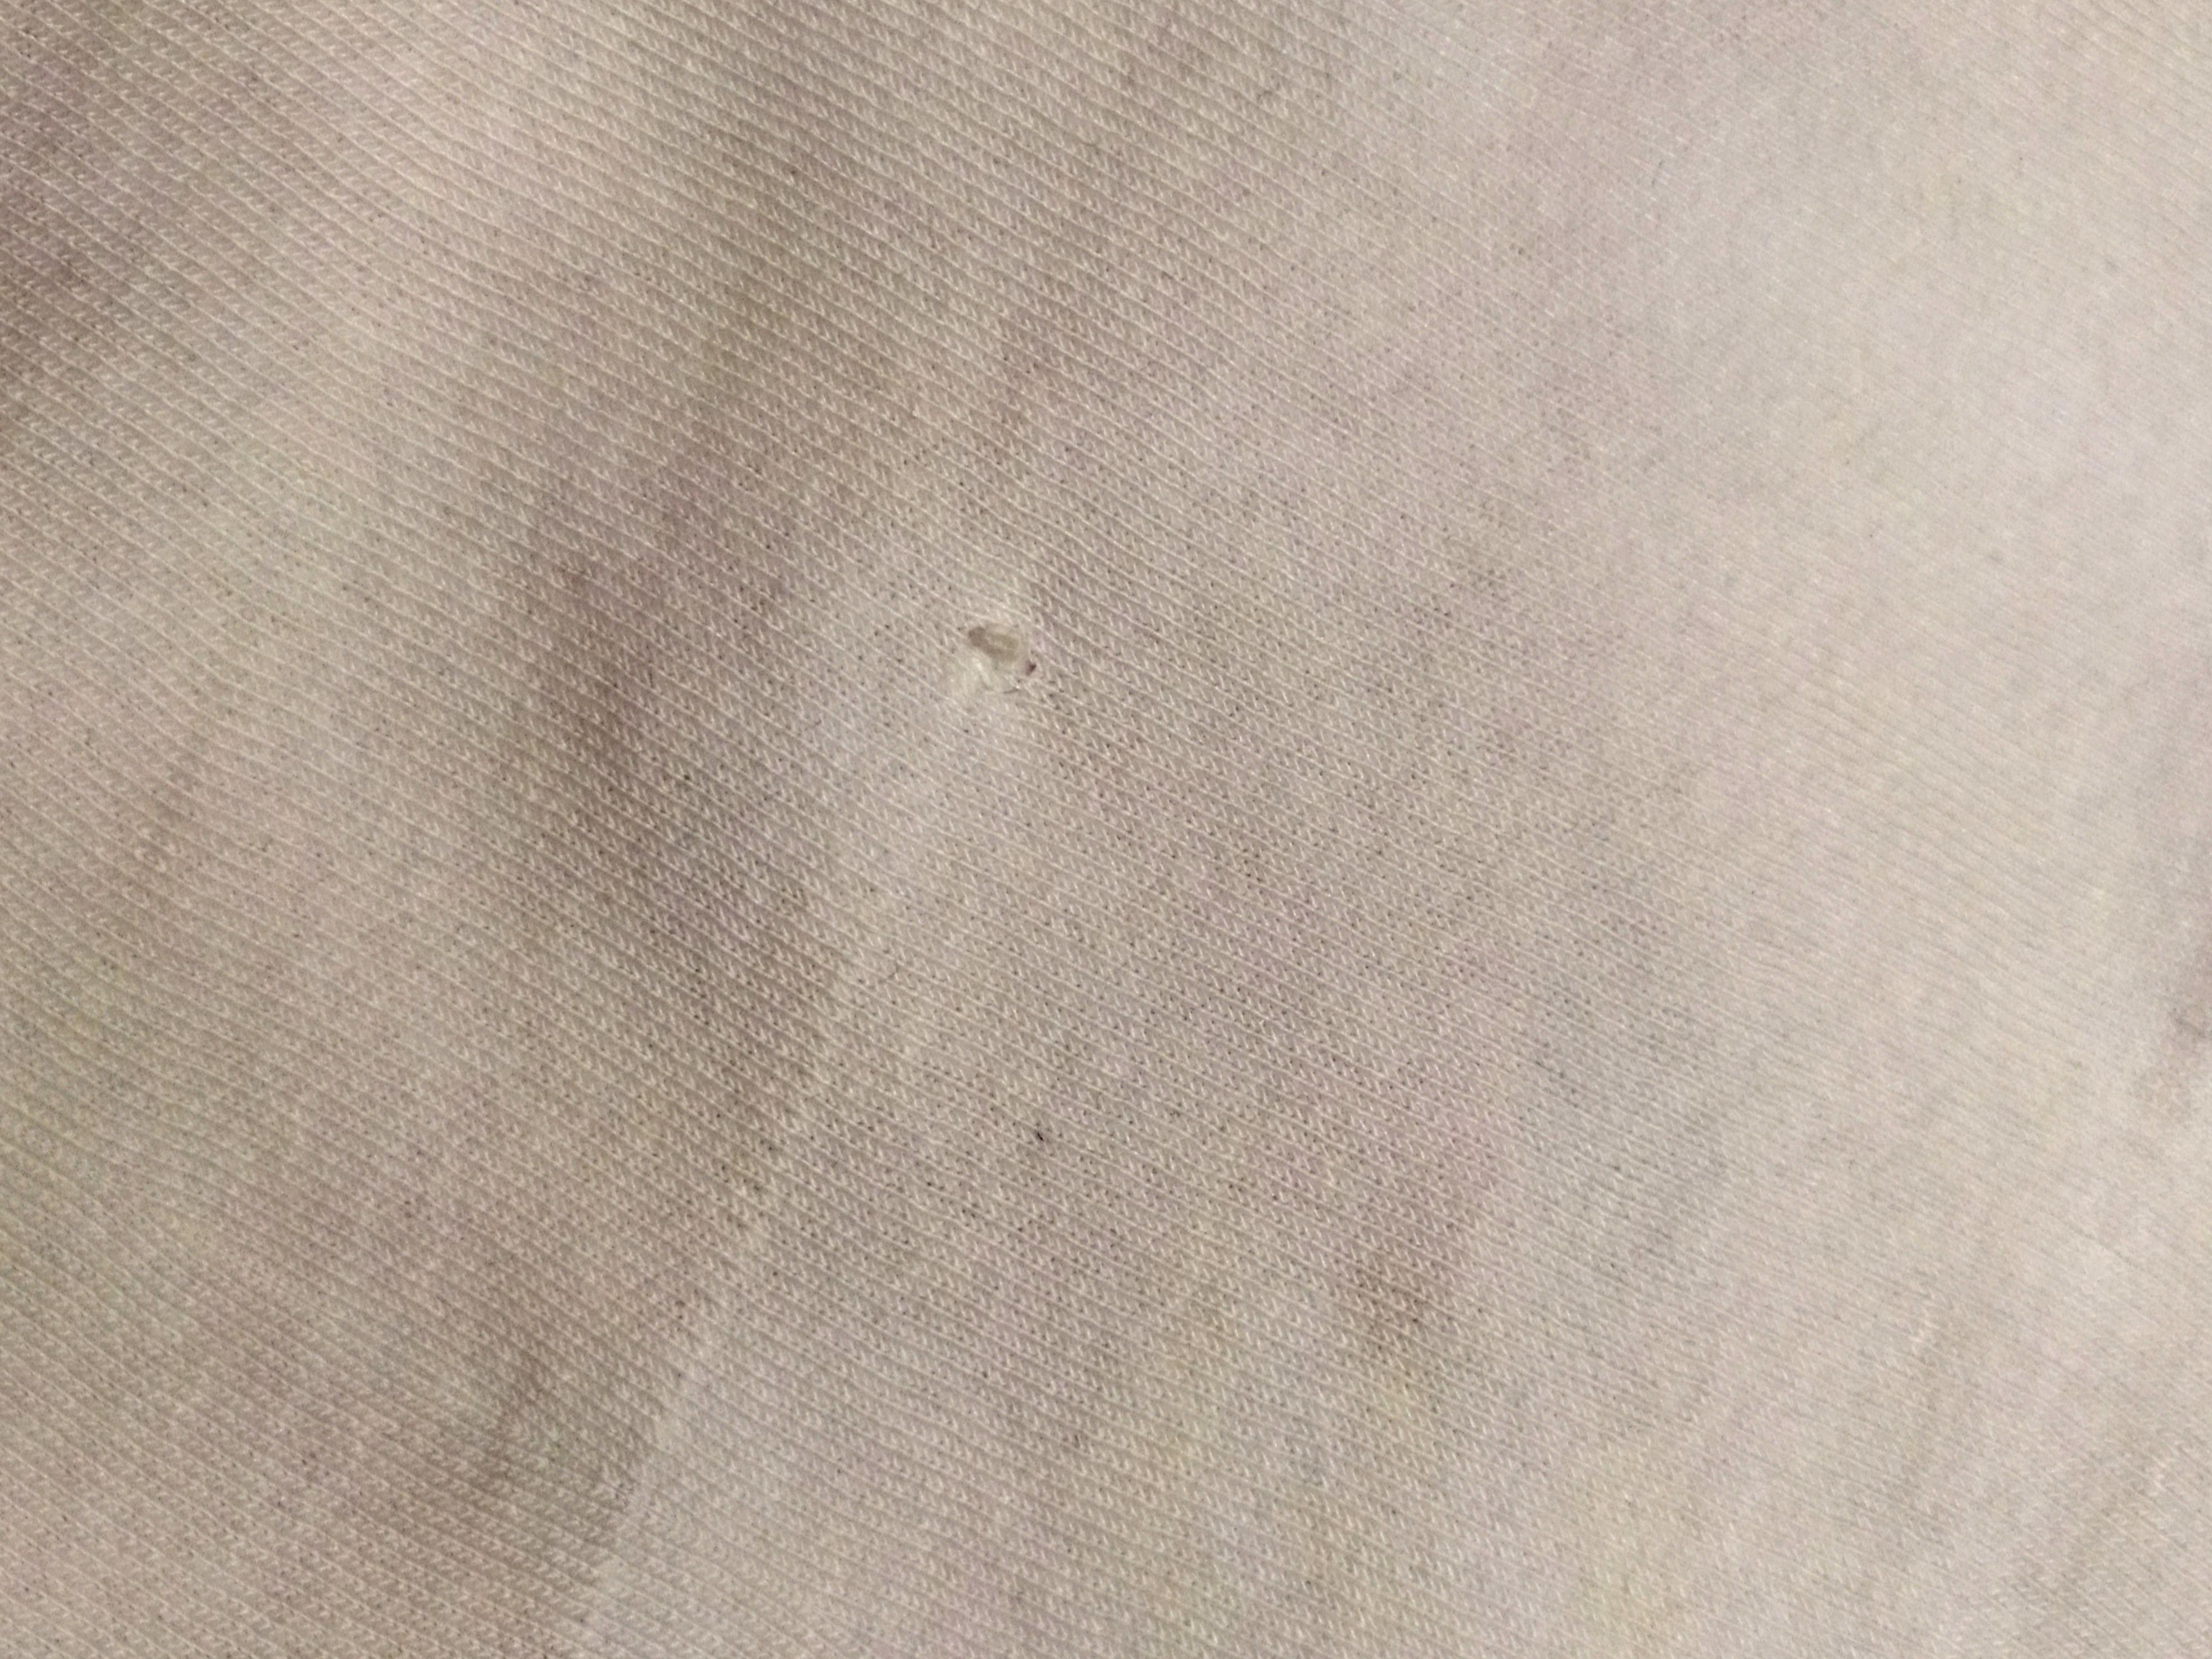knot: (916, 584, 1080, 742)
